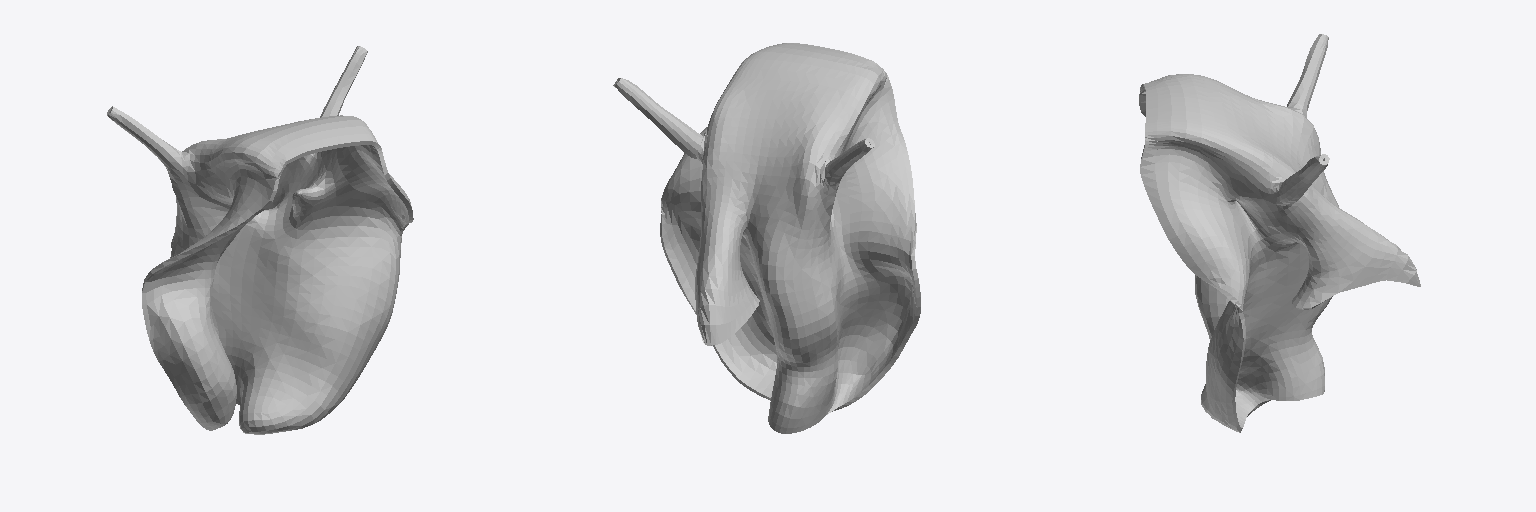
The model's file is furlowPalate_uncut.obj.
3 views of the same model, side by side, from view 1: azimuth 30°, elevation 25°; view 2: azimuth 150°, elevation 25°; view 3: azimuth 270°, elevation 25° (orthographic).
Parts seen in each view (by area): view 1: furlow_palate_uncutfurlow_cleft_markings; view 2: furlow_palate_uncutfurlow_cleft_markings; view 3: furlow_palate_uncutfurlow_cleft_markings.
Part boxes in pixels (left/top/right/bottom): furlow_palate_uncutfurlow_cleft_markings: left=107, top=46, right=413, bottom=434; furlow_palate_uncutfurlow_cleft_markings: left=613, top=43, right=920, bottom=433; furlow_palate_uncutfurlow_cleft_markings: left=1139, top=34, right=1420, bottom=432.
Size of the model in its own units: 3.08 by 3.64 by 2.85.